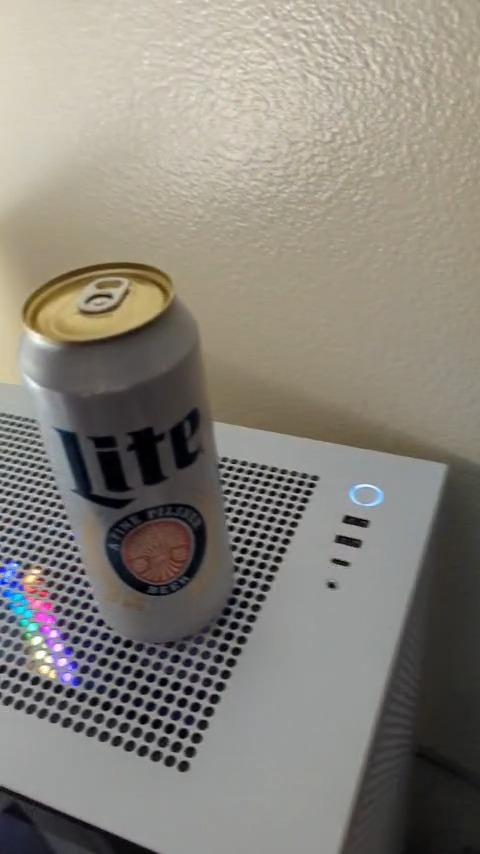metal: (20, 262, 234, 642)
